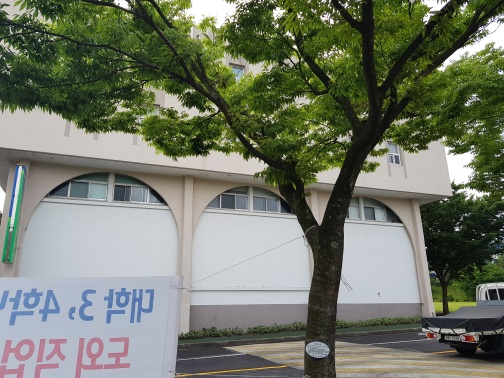Main Building of University: (6, 58, 462, 304)
